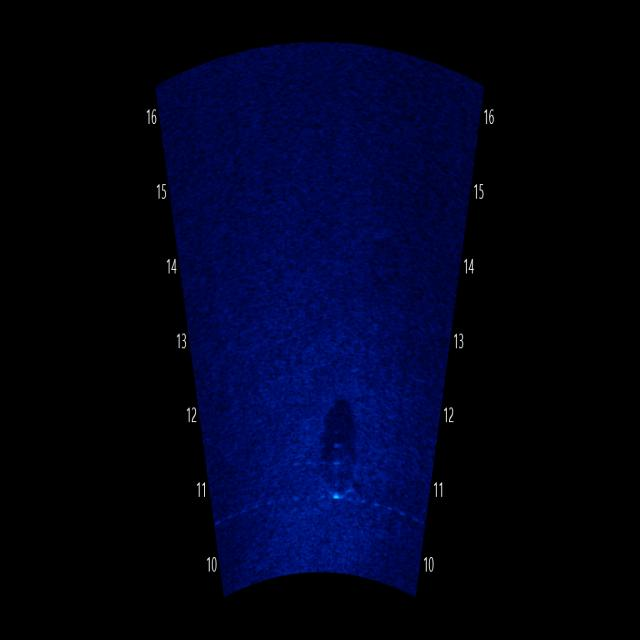circle: (312, 398, 368, 511)
